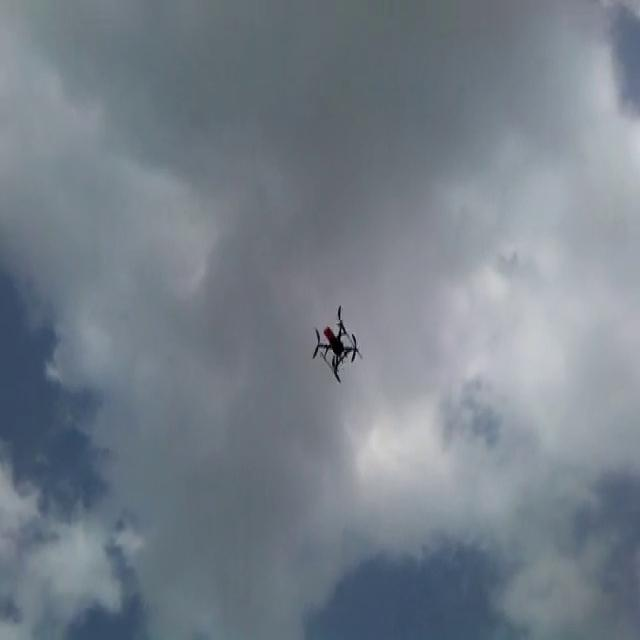drone: (311, 299, 363, 384)
